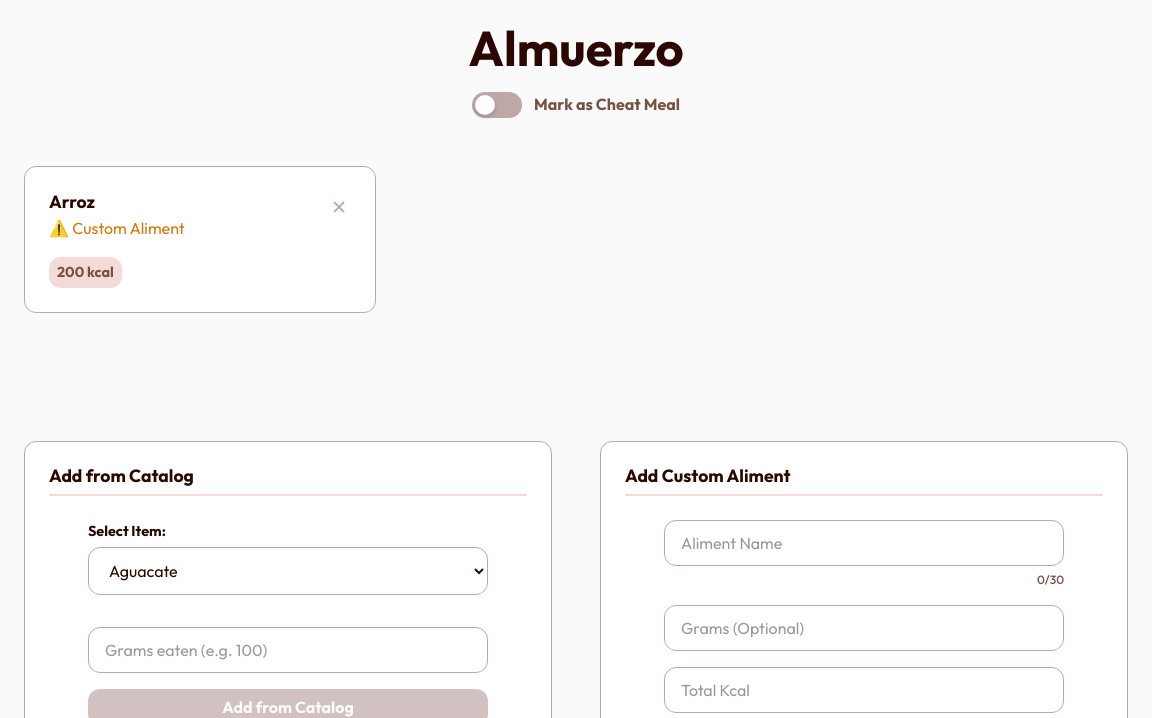
Test: MealItem - Aliments Management (Integration) › debe añadir un alimento desde el Catálogo (Select)
Later steps or results of the test are not shown.
Select "Aguacate" in the dropdown at (288, 571), box [88, 547, 488, 595]
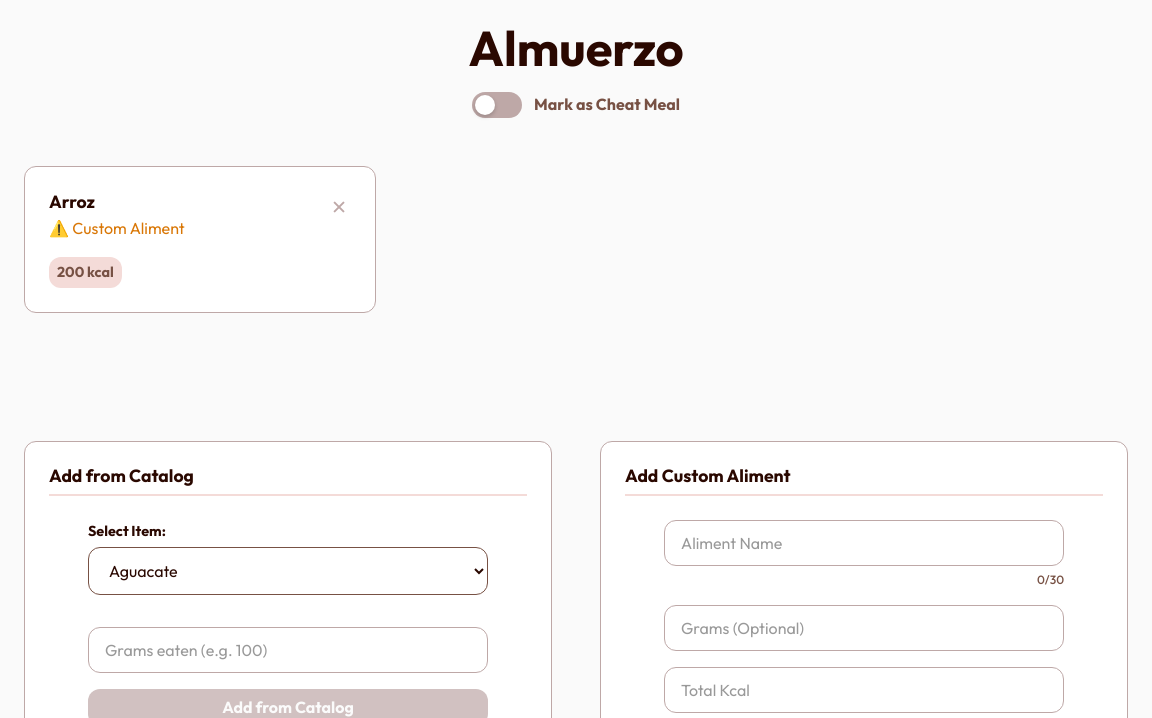
// Escribimos gramos
Type "100" into the field with placeholder "Grams eaten (e.g. 100)" at (288, 650), box [88, 627, 488, 673]
(page scrolled)
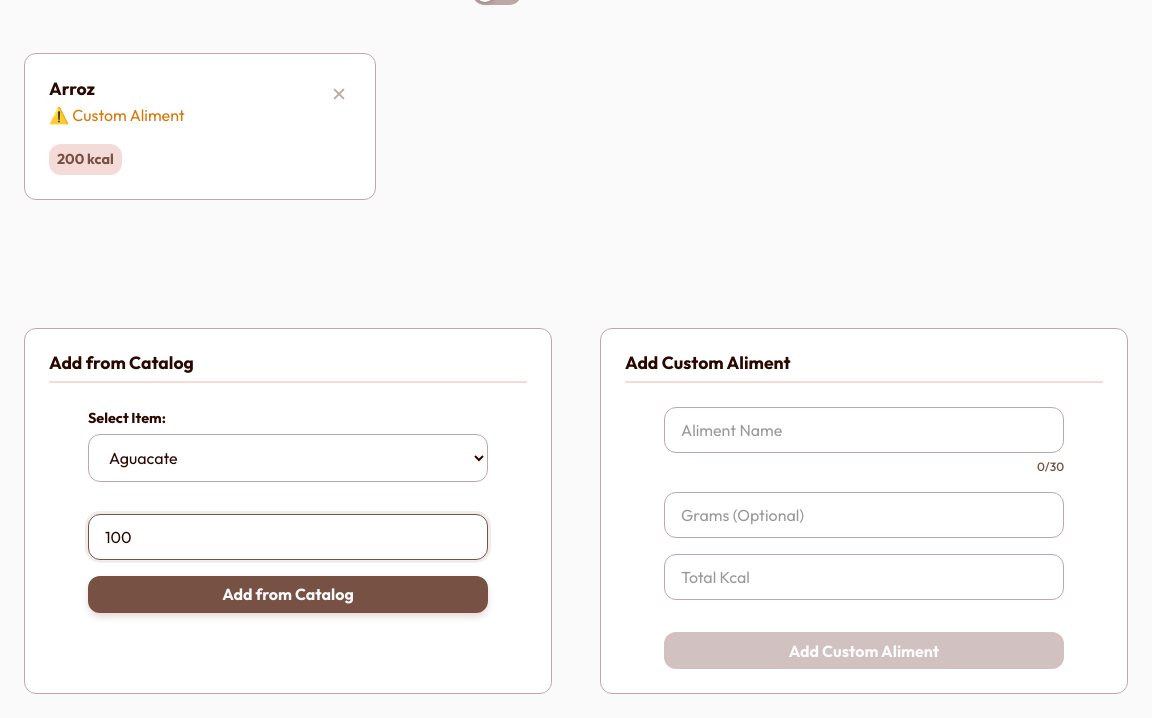
Result: the button "Add from Catalog" is enabled at [88, 576, 488, 613]
